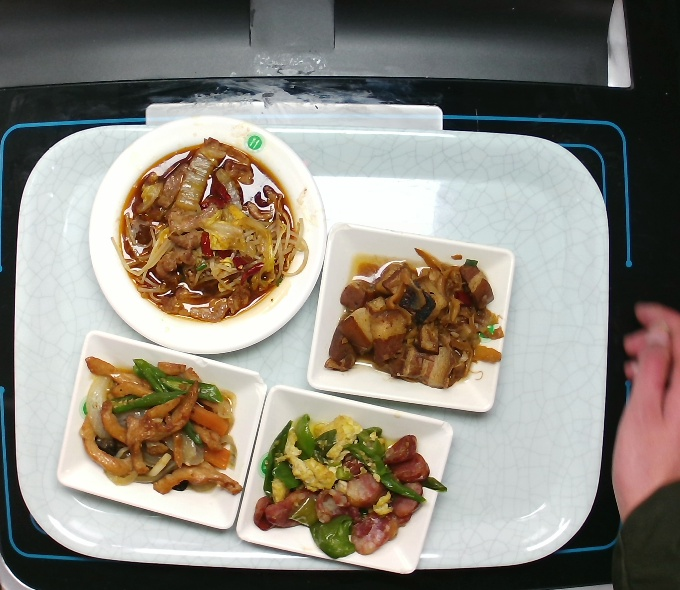wcq-HongShaoRou: (319, 243, 507, 394)
wcq-QingJiaoJiDanChaoDaChang: (247, 408, 450, 561)
wcq-QingJiaoRouSi: (76, 353, 248, 499)
wcq-ShuiZhuRouPian: (107, 134, 312, 325)
